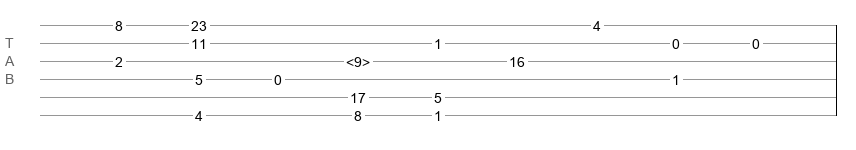0: (274, 72, 282, 82), (672, 36, 680, 46), (752, 36, 760, 46)
1: (434, 108, 442, 118), (434, 36, 442, 46), (672, 72, 680, 82)
11: (191, 36, 207, 46)
16: (509, 54, 525, 64)
17: (350, 90, 366, 100)
2: (115, 54, 123, 64)
23: (191, 18, 207, 28)
4: (195, 108, 203, 118), (593, 18, 601, 28)
5: (195, 72, 203, 82), (434, 90, 442, 100)
8: (115, 18, 123, 28), (354, 108, 362, 118)
harmonic: (346, 54, 370, 64)
